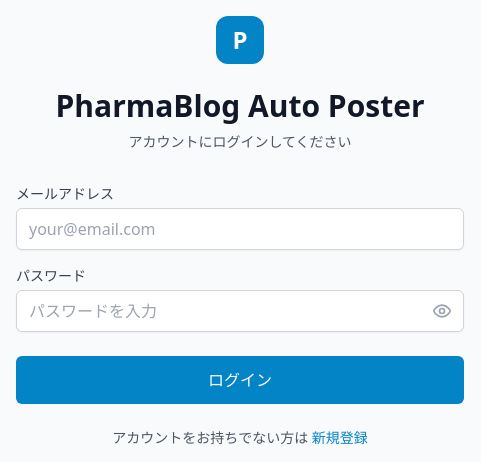
Scenario: Authentication › Form Interactions › shows loading state during login
Type "test@example.com" into the field labelled "メールアドレス" at (240, 229), box x1=16 y1=208 x2=464 y2=250
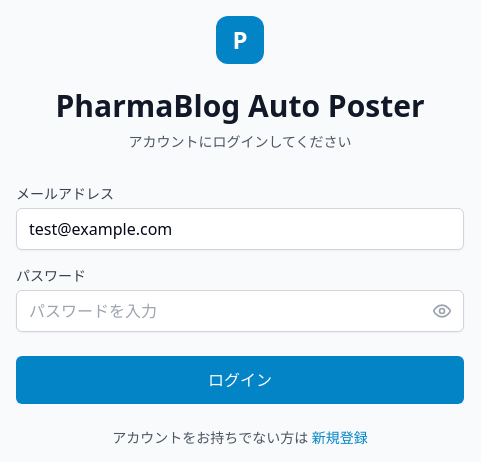
Type "password123" into the password field labelled "パスワード" at (240, 311), box x1=16 y1=290 x2=464 y2=332
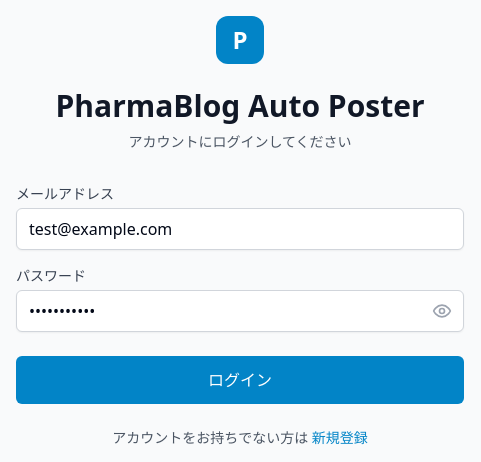
Click the button "ログイン" at (240, 380), box x1=16 y1=356 x2=464 y2=404
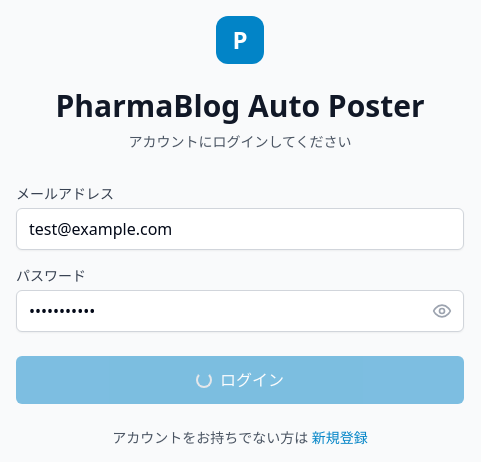
Check: the button "ログイン" is disabled, box x1=16 y1=356 x2=464 y2=404
